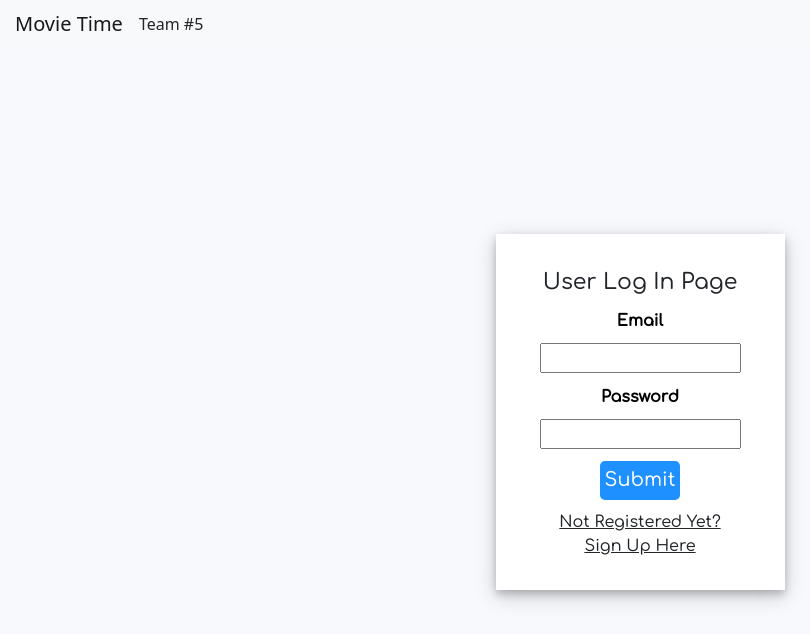
Scenario: LogIn component › should display an error message when email is in invalid format
Type "invalid.email" into the field labelled "Email". click: (640, 358)
box: [540,343,740,373]
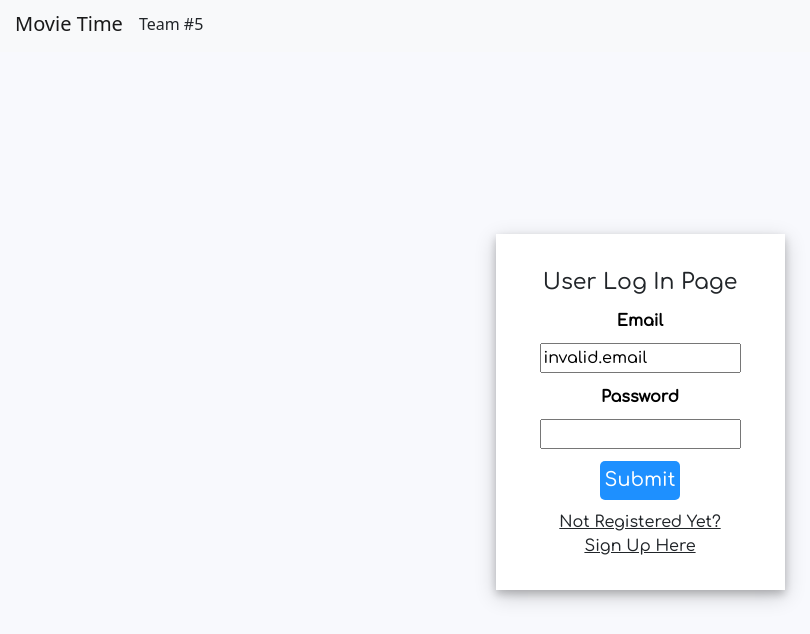
Type "password" into the password field labelled "Password". click: (640, 434)
box: [540,419,740,449]
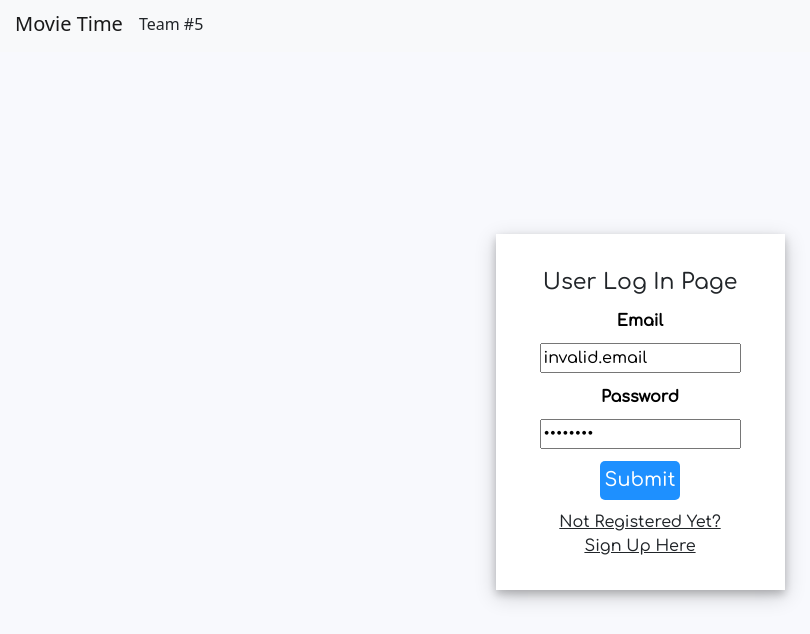
Click the button with test id "submit-button". click: (640, 480)
box: [600,461,680,500]
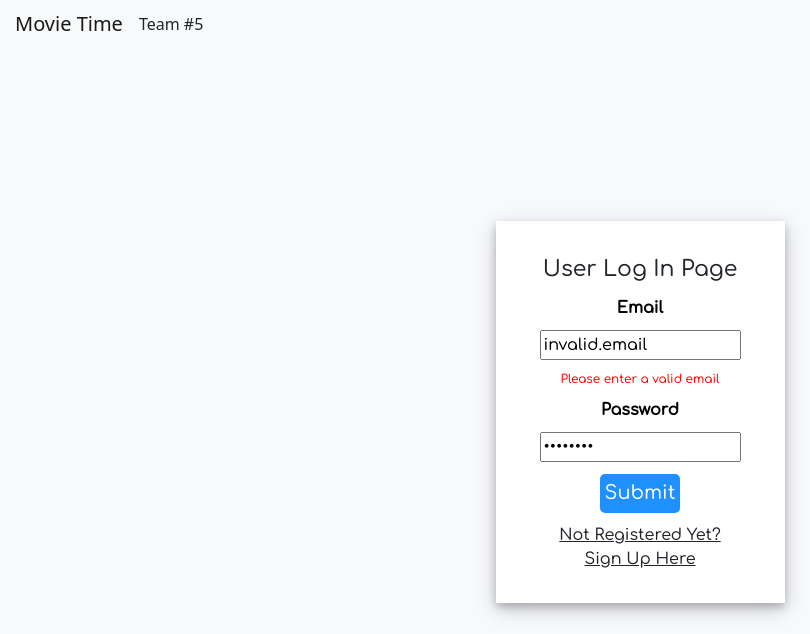
Result: the text "Please enter a valid email" is shown at [560,372,719,386]
